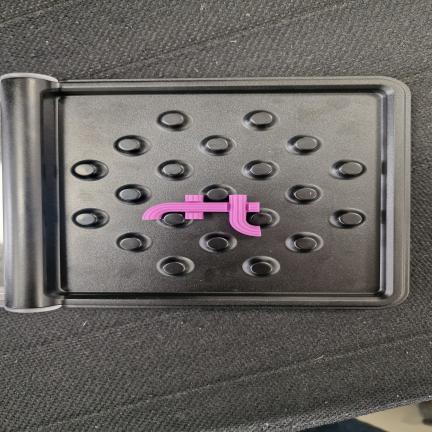H_Purple: (142, 195, 261, 236)
board: (0, 73, 410, 313)
hinge: (2, 75, 56, 310)
pin: (250, 112, 273, 127), (117, 138, 141, 152), (161, 113, 184, 127), (294, 137, 317, 151), (250, 261, 273, 275), (339, 162, 363, 175), (206, 137, 228, 151), (250, 212, 272, 226), (163, 261, 185, 275), (250, 163, 273, 176), (74, 163, 97, 176), (339, 212, 362, 225), (119, 237, 142, 250), (206, 237, 229, 250), (162, 163, 184, 176), (119, 188, 141, 201), (206, 188, 228, 201), (75, 213, 97, 226), (295, 237, 317, 250), (294, 188, 317, 200), (163, 213, 185, 225)
